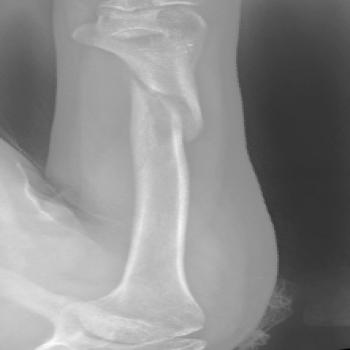Fracture: (115, 72, 222, 151)
